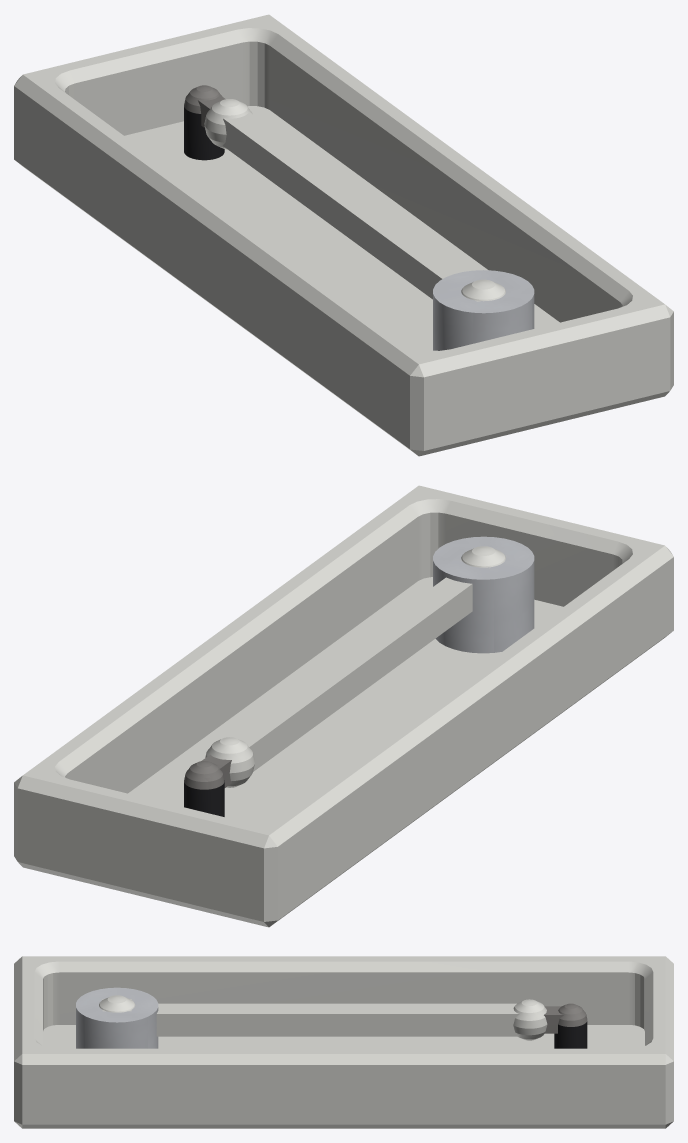
Rendered from ax_rover_22_rover_arm.glb.
3 renders of one model, top to bottom at view 1: azimuth 30°, elevation 25°; view 2: azimuth 150°, elevation 25°; view 3: azimuth 270°, elevation 25°, orthographic. The views are drawn at different scales.
Visible parts, largest first — view 1: stowage_well, arm_2, arm_base, arm_end_effector, arm_3, arm_1; view 2: stowage_well, arm_2, arm_base, arm_3, arm_end_effector, arm_1; view 3: stowage_well, arm_2, arm_base, arm_3, arm_end_effector, arm_1.
Part boxes in pixels (bbox=[...]): stowage_well: bbox=[14, 14, 673, 456]; arm_2: bbox=[204, 99, 466, 299]; arm_base: bbox=[433, 270, 534, 350]; arm_end_effector: bbox=[184, 107, 224, 160]; arm_3: bbox=[184, 85, 225, 127]; arm_1: bbox=[461, 279, 505, 301]; stowage_well: bbox=[14, 485, 673, 927]; arm_2: bbox=[205, 577, 472, 787]; arm_base: bbox=[433, 536, 534, 653]; arm_3: bbox=[184, 754, 231, 789]; arm_end_effector: bbox=[184, 780, 224, 816]; arm_1: bbox=[461, 546, 505, 568]; stowage_well: bbox=[14, 956, 673, 1128]; arm_2: bbox=[156, 999, 547, 1040]; arm_base: bbox=[76, 987, 158, 1048]; arm_3: bbox=[544, 1003, 587, 1033]; arm_end_effector: bbox=[554, 1021, 587, 1048]; arm_1: bbox=[99, 995, 135, 1012].
Size of the model in its own units: 0.6 by 0.22 by 1.6.
4 materials, 2 textured.
